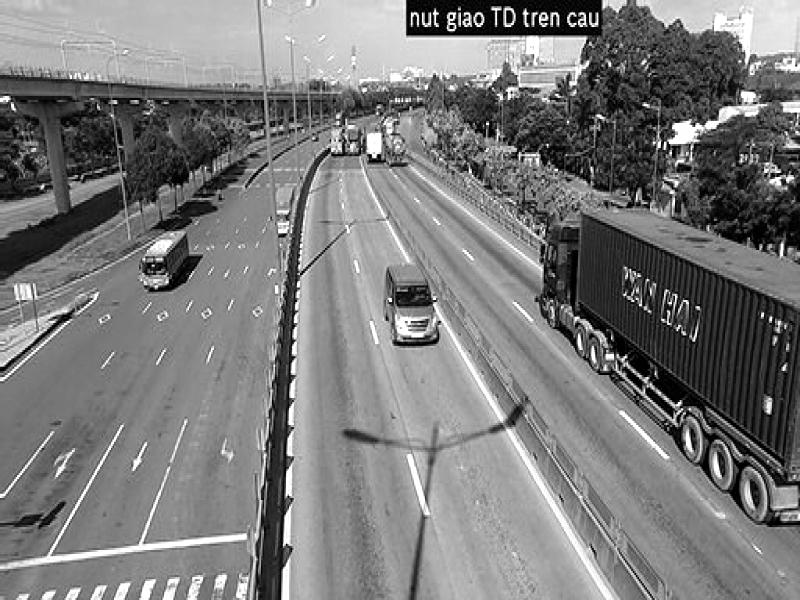bus: (140, 227, 194, 300)
truck: (539, 203, 800, 533)
